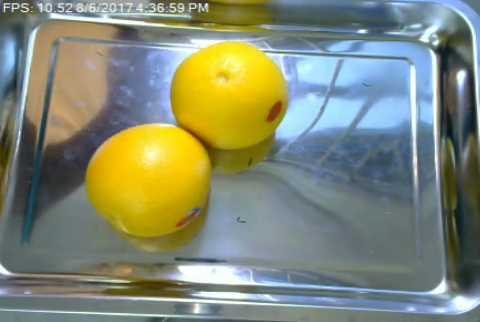Orange: (85, 122, 210, 237), (169, 42, 291, 149)
